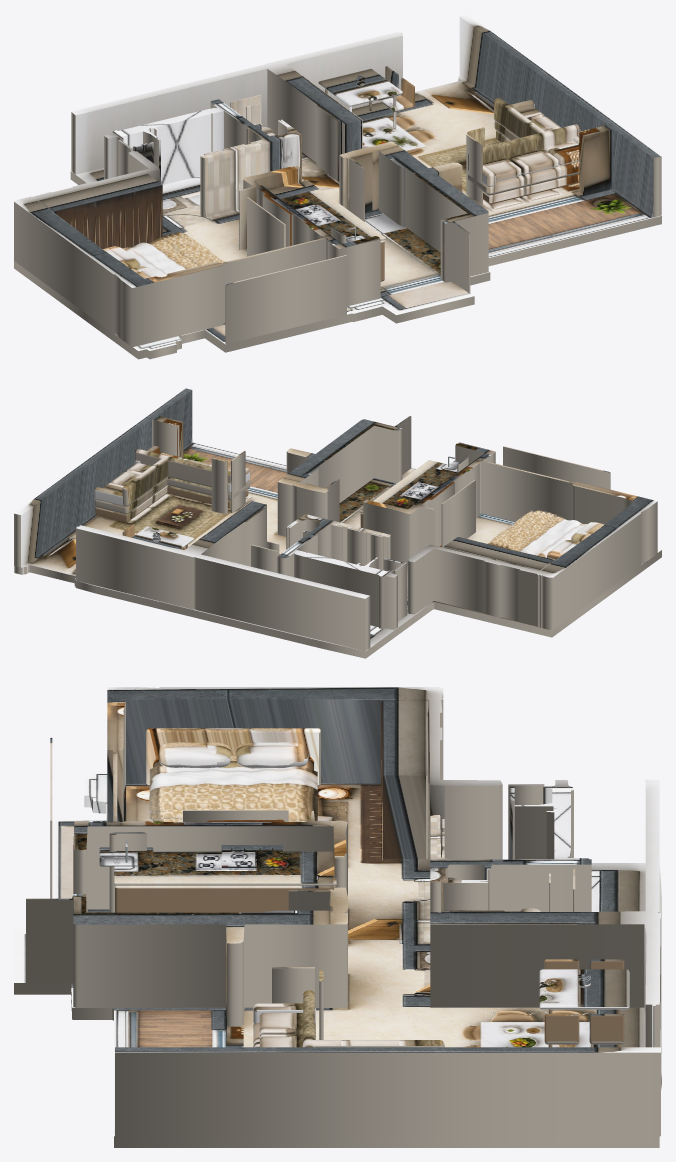
Rendered from p4-02-u08-0110-image-model.glb.
The picture shows the model from 3 angles, top to bottom: view 1: azimuth 30°, elevation 25°; view 2: azimuth 150°, elevation 25°; view 3: azimuth 270°, elevation 25°; orthographic projection. The views are drawn at different scales.
Parts seen in each view (by area): view 1: Partition walls, Apartment floor, Stone worktop, Marble dining top, Draped bed linen, Sofa back, Upholstered sofa frame, Sofa back.001, Sofa plinth, Draped bed linen.001, Seat cushion.001, Seat cushion.002 (+1 smaller); view 2: Partition walls, Apartment floor, Draped bed linen, Stone worktop, Sofa back, Sofa back.001, Draped bed linen.001, Marble dining top, Upholstered sofa frame.001, Sofa plinth.001, Upholstered sofa frame, Sofa plinth; view 3: Partition walls, Apartment floor, Stone worktop, Draped bed linen, Kitchen cabinets, Marble dining top, Upholstered headboard, Draped bed linen.001, Tailored pillow.001, Tailored pillow, Inset cooktop, Sofa back.001 (+5 smaller).
Boxes of the visible parts, bbox=[...] form: Partition walls: bbox=[14, 14, 661, 347]; Apartment floor: bbox=[14, 76, 661, 359]; Stone worktop: bbox=[268, 180, 385, 240]; Marble dining top: bbox=[318, 68, 402, 106]; Draped bed linen: bbox=[122, 233, 225, 275]; Sofa back: bbox=[468, 124, 580, 170]; Upholstered sofa frame: bbox=[468, 161, 579, 195]; Sofa back.001: bbox=[494, 98, 548, 149]; Sofa plinth: bbox=[483, 174, 579, 204]; Draped bed linen.001: bbox=[157, 232, 221, 266]; Seat cushion.001: bbox=[508, 148, 558, 174]; Seat cushion.002: bbox=[545, 140, 579, 165]; Partition walls: bbox=[14, 388, 657, 650]; Apartment floor: bbox=[14, 442, 661, 658]; Draped bed linen: bbox=[487, 510, 586, 557]; Stone worktop: bbox=[359, 460, 451, 513]; Sofa back: bbox=[135, 449, 234, 489]; Sofa back.001: bbox=[122, 456, 168, 506]; Draped bed linen.001: bbox=[489, 510, 556, 548]; Marble dining top: bbox=[132, 526, 193, 549]; Upholstered sofa frame.001: bbox=[94, 478, 167, 514]; Sofa plinth.001: bbox=[95, 485, 167, 522]; Upholstered sofa frame: bbox=[167, 477, 250, 500]; Sofa plinth: bbox=[167, 485, 248, 508]; Partition walls: bbox=[26, 687, 660, 1136]; Apartment floor: bbox=[14, 771, 661, 1147]; Stone worktop: bbox=[114, 851, 336, 885]; Draped bed linen: bbox=[149, 766, 317, 821]; Kitchen cabinets: bbox=[115, 885, 335, 912]; Marble dining top: bbox=[539, 969, 629, 1009]; Upholstered headboard: bbox=[146, 728, 320, 786]; Draped bed linen.001: bbox=[149, 790, 317, 814]; Tailored pillow.001: bbox=[236, 742, 308, 768]; Tailored pillow: bbox=[158, 742, 231, 768]; Inset cooktop: bbox=[221, 845, 282, 867]; Sofa back.001: bbox=[303, 1040, 444, 1047].
Bounding box in the file's own units: 10.72 × 1.3 × 8.02.
14 materials, 3 textured.
